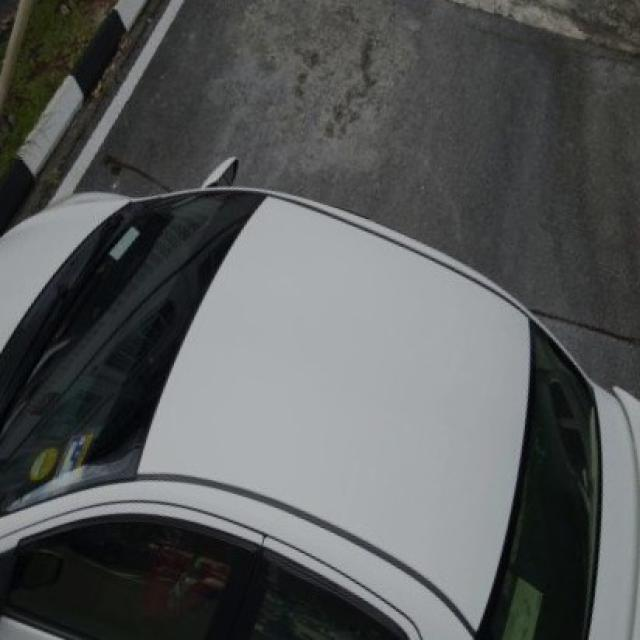illegalparking: (0, 158, 638, 638)
